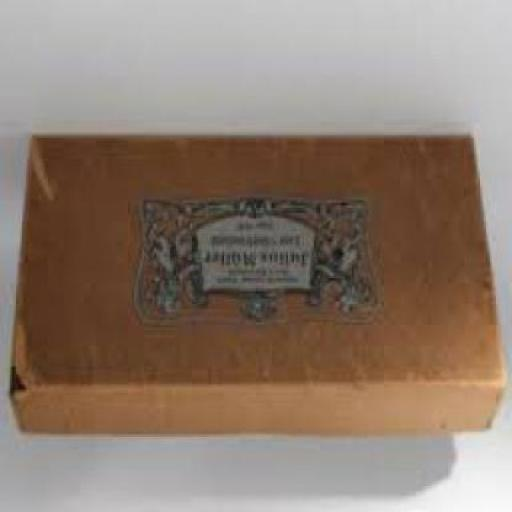cardboard: (12, 135, 510, 437)
